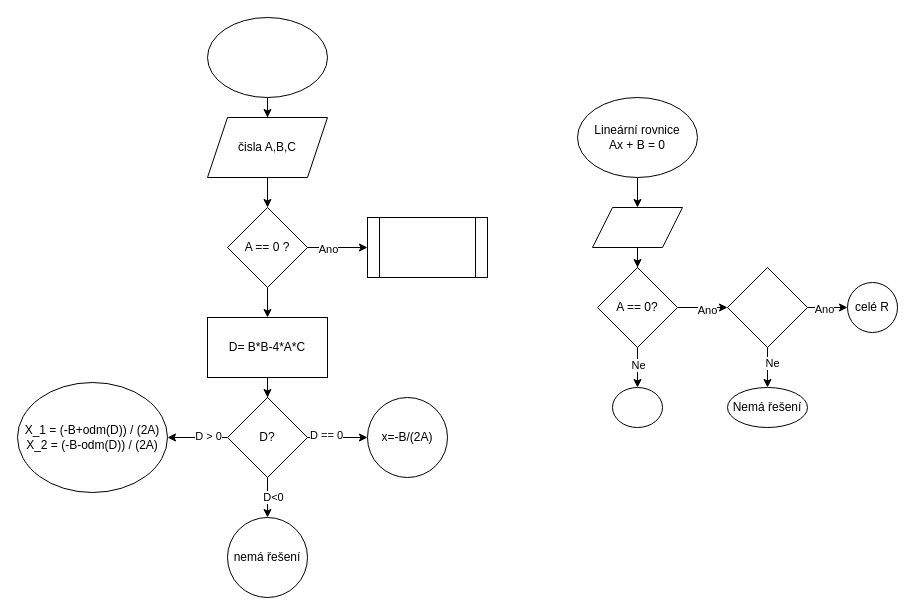
The diagram is 915 pixels wide and 615 high, and some of its shapes have lost their labels. The shapes that lost their labels are listed below. From the top down, each one's centre as x and y in pixels, then its label:
At [267,57]: "Kvadratická rovnice".
At [427,247]: "Lineární rovnice B -> a, C -> b".
At [637,227]: "čísla A a B".
At [767,307]: "B == 0?".
At [637,407]: "-B/A".
